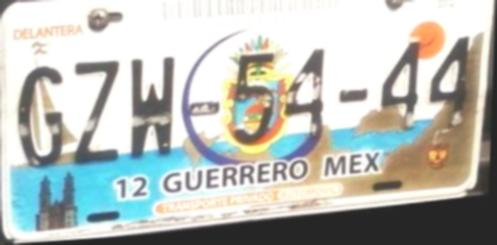License_Plate: (0, 0, 489, 231)
